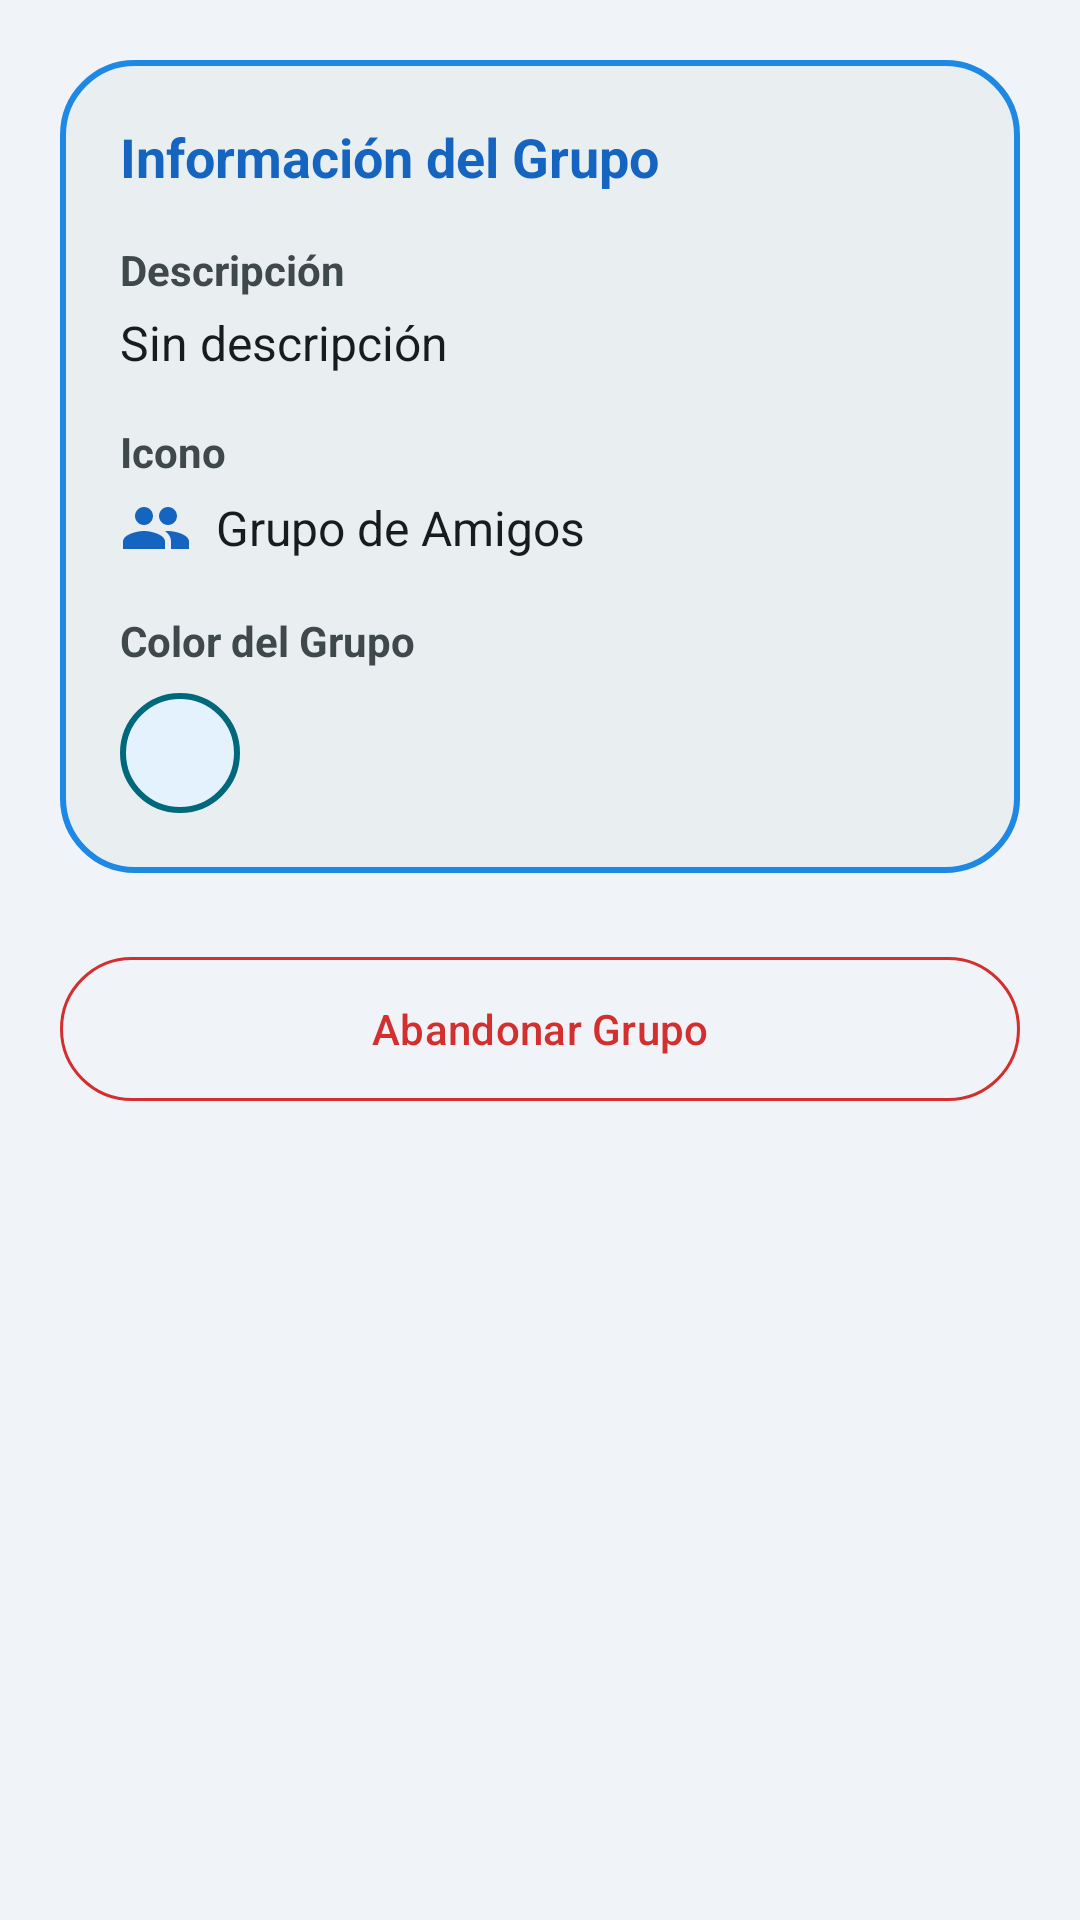

Named icons in this screenshot (1080px x 1920px) and their centers, (x=x, y=y):
groups: (x=156, y=528)
